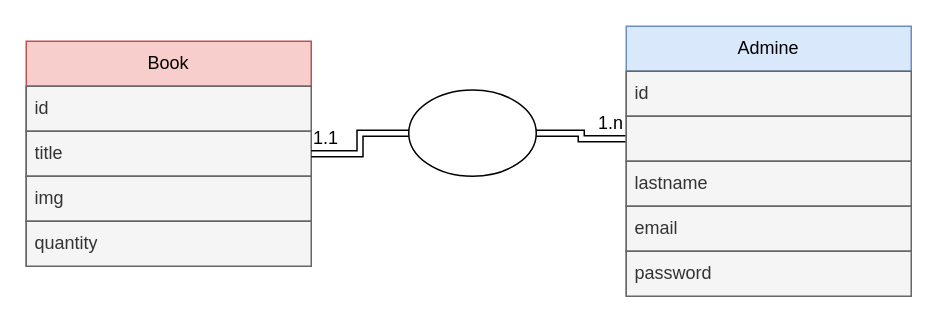
This 938x323 diagram has some shape labels left out. The shapes that lost their labels are listed below. From the top down, each one's centre as x and y in pixels, then its label:
At point (471, 132): "publisher".
At point (768, 138): "firstname".
